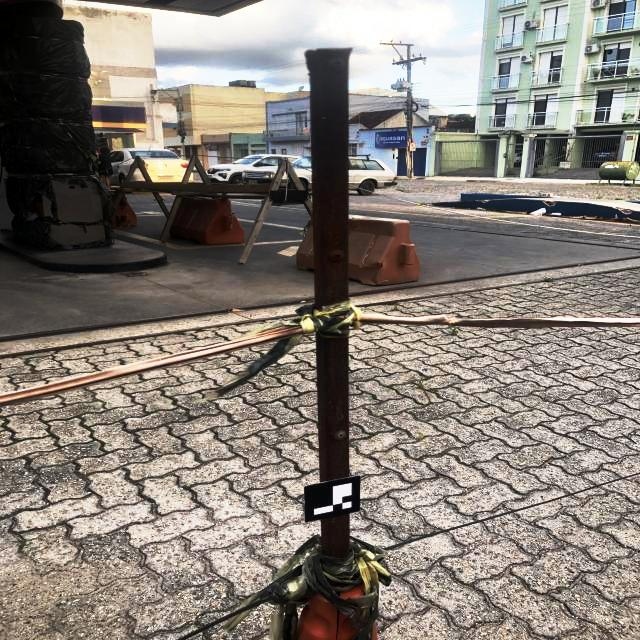Corrosion: (0, 313, 300, 358), (305, 48, 353, 310), (316, 332, 350, 482), (356, 280, 544, 307), (349, 277, 475, 298), (321, 514, 349, 557)
